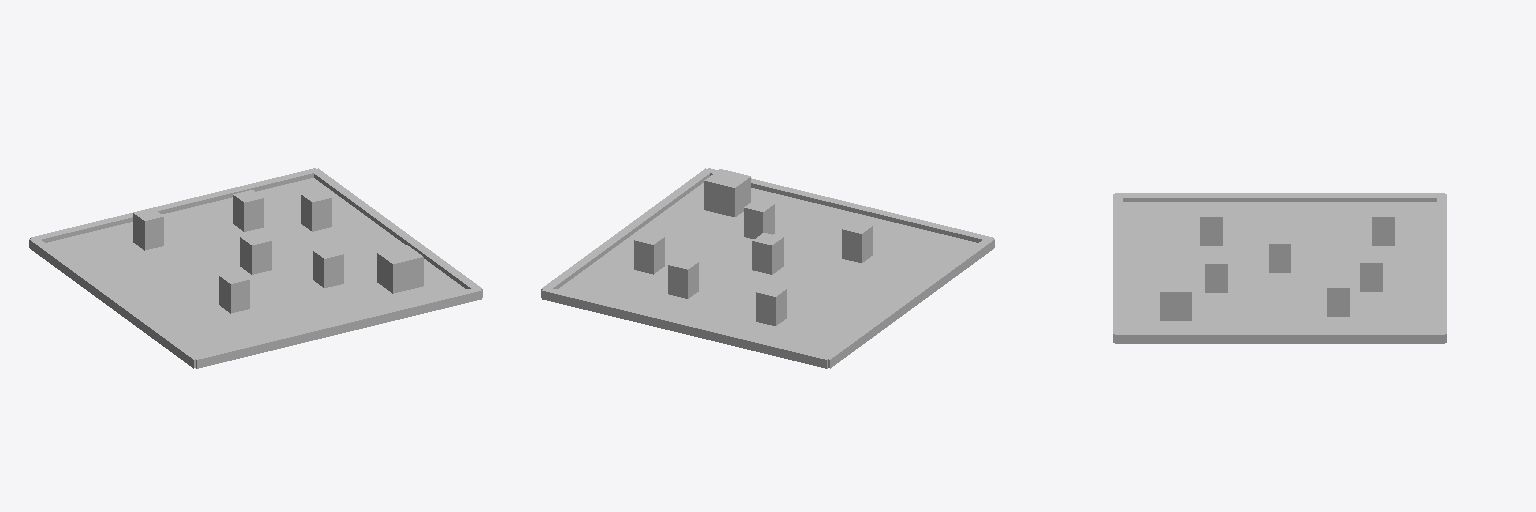
File: city.obj
3 renders of one model, left to right at view 1: azimuth 30°, elevation 25°; view 2: azimuth 150°, elevation 25°; view 3: azimuth 270°, elevation 25°, orthographic.
Parts seen in each view (by area): view 1: 平面, 立方体.003_立方体.011, 立方体_立方体.007, 立方体.002_立方体.010, 立方体.001_立方体.009, ビル.005_立方体.005, ビル_立方体, ビル.001_立方体.001, ビル.003_立方体.003, ビル.004_立方体.004, ビル.006_立方体.006, ビル.002_立方体.002; view 2: 平面, 立方体.002_立方体.010, 立方体_立方体.007, 立方体.003_立方体.011, 立方体.001_立方体.009, ビル.005_立方体.005, ビル_立方体, ビル.002_立方体.002, ビル.003_立方体.003, ビル.004_立方体.004, ビル.006_立方体.006, ビル.001_立方体.001; view 3: 平面, 立方体.001_立方体.009, 立方体_立方体.007, ビル.005_立方体.005, 立方体.002_立方体.010, 立方体.003_立方体.011, ビル.001_立方体.001, ビル.002_立方体.002, ビル.003_立方体.003, ビル.004_立方体.004, ビル.006_立方体.006, ビル_立方体.
Boxes of the visible parts, x1,y1,x2,y2 form: 平面: [46, 178, 466, 354]; 立方体.003_立方体.011: [193, 287, 481, 368]; 立方体_立方体.007: [29, 237, 199, 368]; 立方体.002_立方体.010: [30, 168, 319, 242]; 立方体.001_立方体.009: [310, 168, 482, 297]; ビル.005_立方体.005: [377, 245, 423, 293]; ビル_立方体: [240, 233, 271, 274]; ビル.001_立方体.001: [313, 246, 343, 287]; ビル.003_立方体.003: [133, 208, 163, 250]; ビル.004_立方体.004: [219, 271, 249, 313]; ビル.006_立方体.006: [233, 190, 263, 231]; ビル.002_立方体.002: [301, 189, 331, 231]; 平面: [557, 183, 977, 354]; 立方体.002_立方体.010: [542, 287, 831, 368]; 立方体_立方体.007: [826, 237, 994, 368]; 立方体.003_立方体.011: [706, 168, 993, 242]; 立方体.001_立方体.009: [541, 168, 713, 297]; ビル.005_立方体.005: [704, 169, 750, 216]; ビル_立方体: [752, 233, 783, 274]; ビル.002_立方体.002: [634, 232, 664, 274]; ビル.003_立方体.003: [756, 284, 786, 325]; ビル.004_立方体.004: [842, 221, 872, 262]; ビル.006_立方体.006: [668, 257, 698, 298]; ビル.001_立方体.001: [744, 199, 774, 238]; 平面: [1123, 202, 1436, 330]; 立方体.001_立方体.009: [1115, 331, 1444, 343]; 立方体_立方体.007: [1115, 193, 1444, 201]; ビル.005_立方体.005: [1160, 277, 1191, 320]; 立方体.002_立方体.010: [1437, 194, 1446, 342]; 立方体.003_立方体.011: [1113, 194, 1122, 342]; ビル.001_立方体.001: [1205, 254, 1227, 292]; ビル.002_立方体.002: [1327, 278, 1349, 316]; ビル.003_立方体.003: [1372, 207, 1394, 245]; ビル.004_立方体.004: [1200, 207, 1222, 245]; ビル.006_立方体.006: [1360, 253, 1382, 291]; ビル_立方体: [1269, 234, 1290, 272].
Bounding box in the file's own units: 206 × 23 × 206.